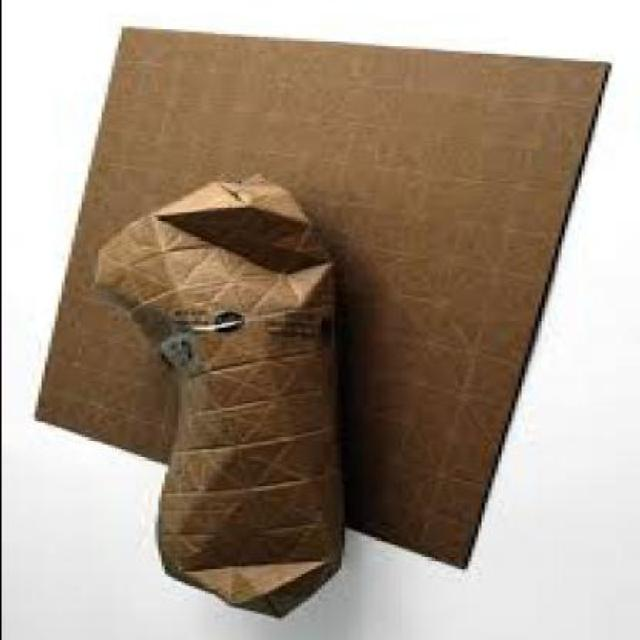CARDBOARD: (27, 30, 607, 572), (87, 176, 344, 622)
